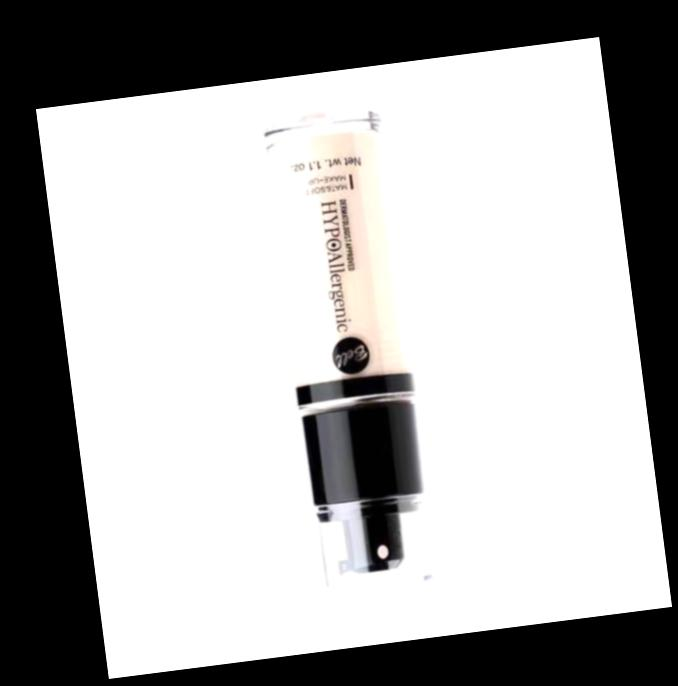cosmetic: (261, 104, 439, 595)
